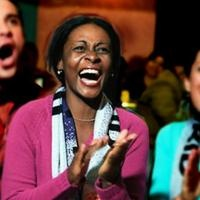person without safety: (2, 12, 150, 184)
